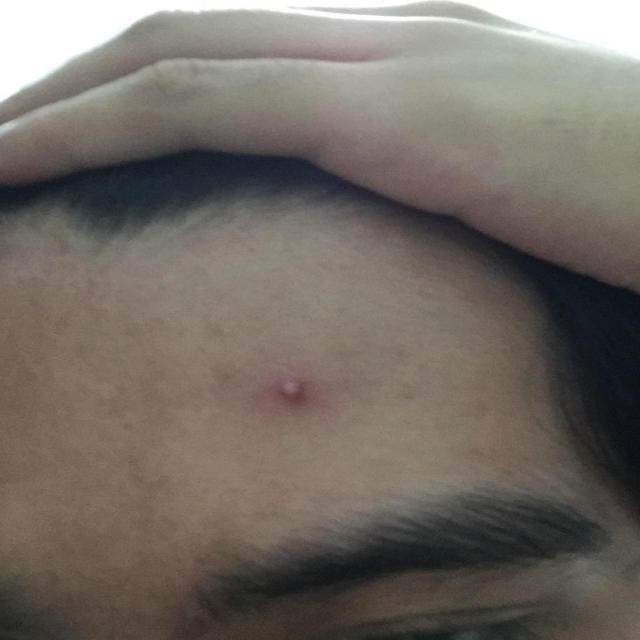Pimples: (262, 368, 320, 413)
